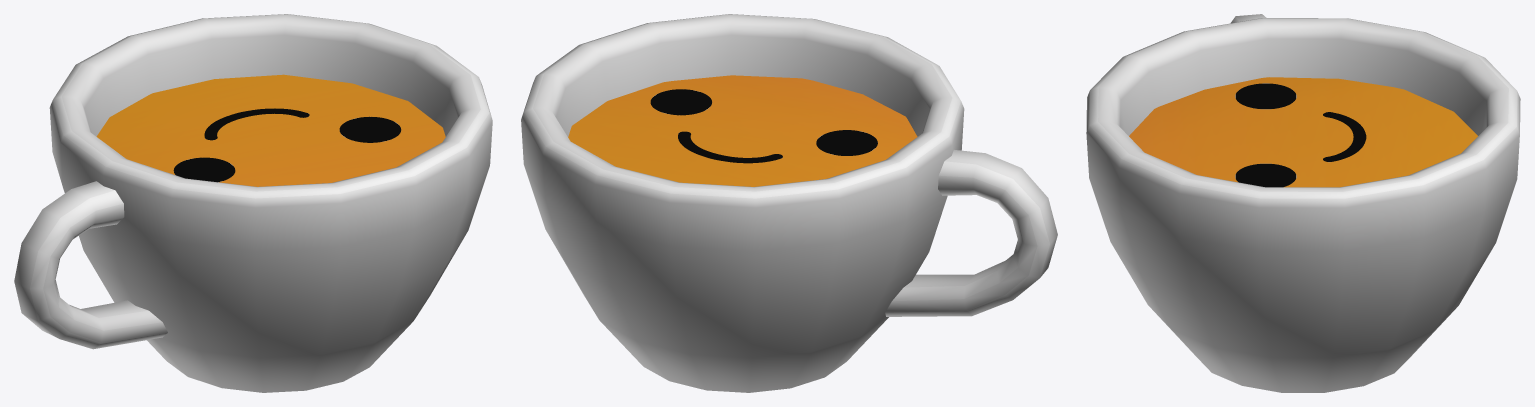
File: tea_orange_smile.fbx
3 renders of one model, left to right at view 1: azimuth 30°, elevation 25°; view 2: azimuth 150°, elevation 25°; view 3: azimuth 270°, elevation 25°, orthographic.
Parts seen in each view (by area): view 1: tea_orange_smile; view 2: tea_orange_smile; view 3: tea_orange_smile.
Boxes of the visible parts, left/top/right/bottom form: tea_orange_smile: left=14, top=14, right=492, bottom=392; tea_orange_smile: left=521, top=14, right=1057, bottom=392; tea_orange_smile: left=1086, top=14, right=1520, bottom=392.
Size of the model in its own units: 20.27 by 16.25 by 10.01.
